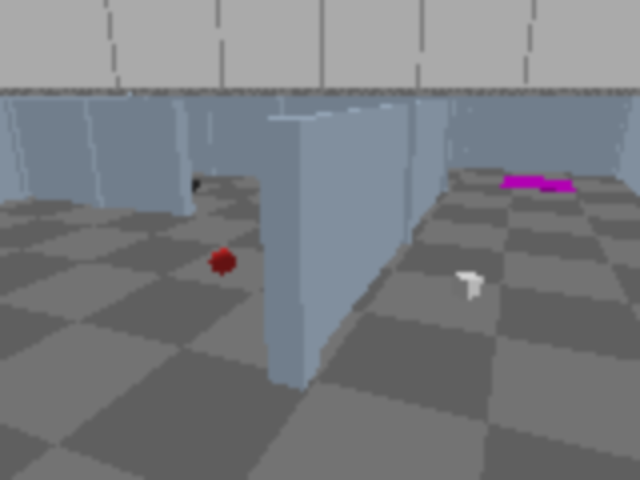goal_zone: (501, 175, 575, 192)
puck: (208, 245, 237, 279), (450, 271, 483, 300)
